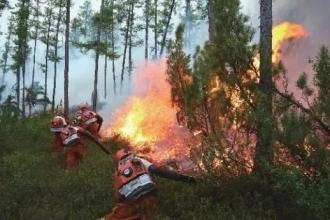fire: (185, 17, 330, 182), (98, 58, 190, 159)
